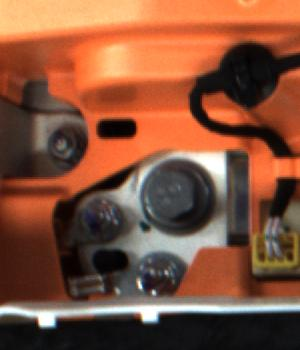nut_b: (139, 152, 220, 240)
